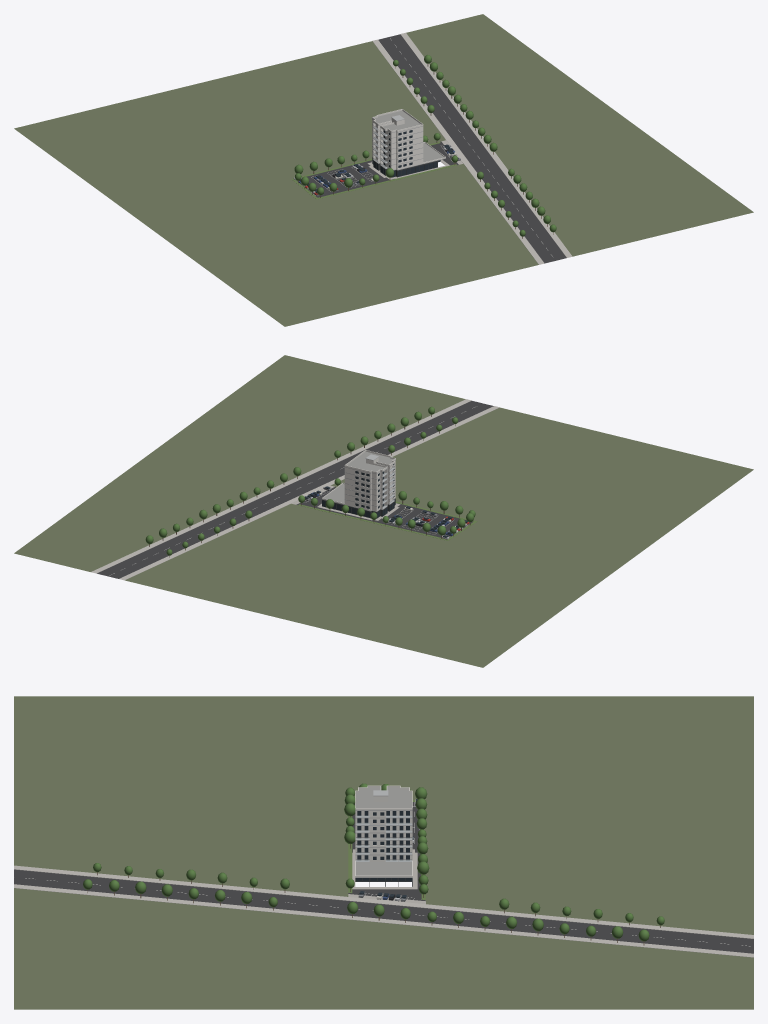
Rendered from proje_kutle.glb.
3 views of the same model, one above another, from view 1: azimuth 30°, elevation 25°; view 2: azimuth 150°, elevation 25°; view 3: azimuth 270°, elevation 25° (orthographic). The views are drawn at different scales.
Visible parts, largest first — view 1: Cevre_Zemin, Odunluk_Caddesi, Kaldirimlar, Agac_Taclari, Normal_Katlar_Duvar, Otopark_Asfalt, Normal_Kat_Doseme_Bantlari, Yesil_Serit; view 2: Cevre_Zemin, Odunluk_Caddesi, Kaldirimlar, Agac_Taclari, Normal_Katlar_Duvar, Otopark_Asfalt, Normal_Kat_Doseme_Bantlari, Yesil_Serit; view 3: Cevre_Zemin, Odunluk_Caddesi, Kaldirimlar, Agac_Taclari, Normal_Katlar_Duvar, Normal_Kat_Camlar, Normal_Kat_Doseme_Bantlari, Otopark_Asfalt, Cati_Kaplamasi, Gezilemeyen_Teras, Parke_Kaplama, Balkon_Korkuluk_Cam.
Part boxes in pixels (left/top/right/bottom): Cevre_Zemin: left=14, top=14, right=753, bottom=326; Odunluk_Caddesi: left=378, top=34, right=566, bottom=263; Kaldirimlar: left=372, top=32, right=572, bottom=264; Agac_Taclari: left=294, top=55, right=556, bottom=236; Normal_Katlar_Duvar: left=372, top=119, right=423, bottom=169; Otopark_Asfalt: left=297, top=141, right=458, bottom=197; Normal_Kat_Doseme_Bantlari: left=372, top=119, right=423, bottom=165; Yesil_Serit: left=292, top=142, right=456, bottom=199; Cevre_Zemin: left=14, top=355, right=753, bottom=667; Odunluk_Caddesi: left=97, top=401, right=493, bottom=578; Kaldirimlar: left=91, top=399, right=499, bottom=580; Agac_Taclari: left=145, top=406, right=475, bottom=555; Normal_Katlar_Duvar: left=344, top=460, right=395, bottom=511; Otopark_Asfalt: left=296, top=486, right=472, bottom=537; Normal_Kat_Doseme_Bantlari: left=344, top=460, right=395, bottom=506; Yesil_Serit: left=298, top=487, right=477, bottom=540; Cevre_Zemin: left=14, top=696, right=753, bottom=1009; Odunluk_Caddesi: left=14, top=869, right=753, bottom=953; Kaldirimlar: left=14, top=865, right=753, bottom=957; Agac_Taclari: left=83, top=783, right=664, bottom=941; Normal_Katlar_Duvar: left=355, top=811, right=412, bottom=861; Normal_Kat_Camlar: left=357, top=811, right=409, bottom=860; Normal_Kat_Doseme_Bantlari: left=355, top=810, right=412, bottom=855; Otopark_Asfalt: left=348, top=802, right=425, bottom=901; Cati_Kaplamasi: left=356, top=788, right=411, bottom=807; Gezilemeyen_Teras: left=356, top=862, right=411, bottom=875; Parke_Kaplama: left=348, top=849, right=425, bottom=904; Balkon_Korkuluk_Cam: left=356, top=815, right=411, bottom=861.
Size of the model in its own units: 300 by 30.72 by 300.
